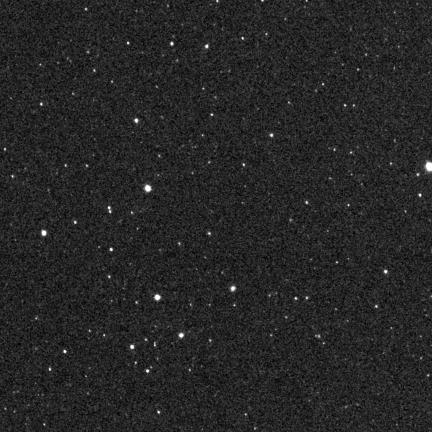blob: (426, 162, 431, 172), (154, 295, 161, 302), (144, 185, 151, 192), (230, 286, 236, 291), (179, 333, 184, 338), (42, 230, 46, 236), (130, 345, 134, 349)
